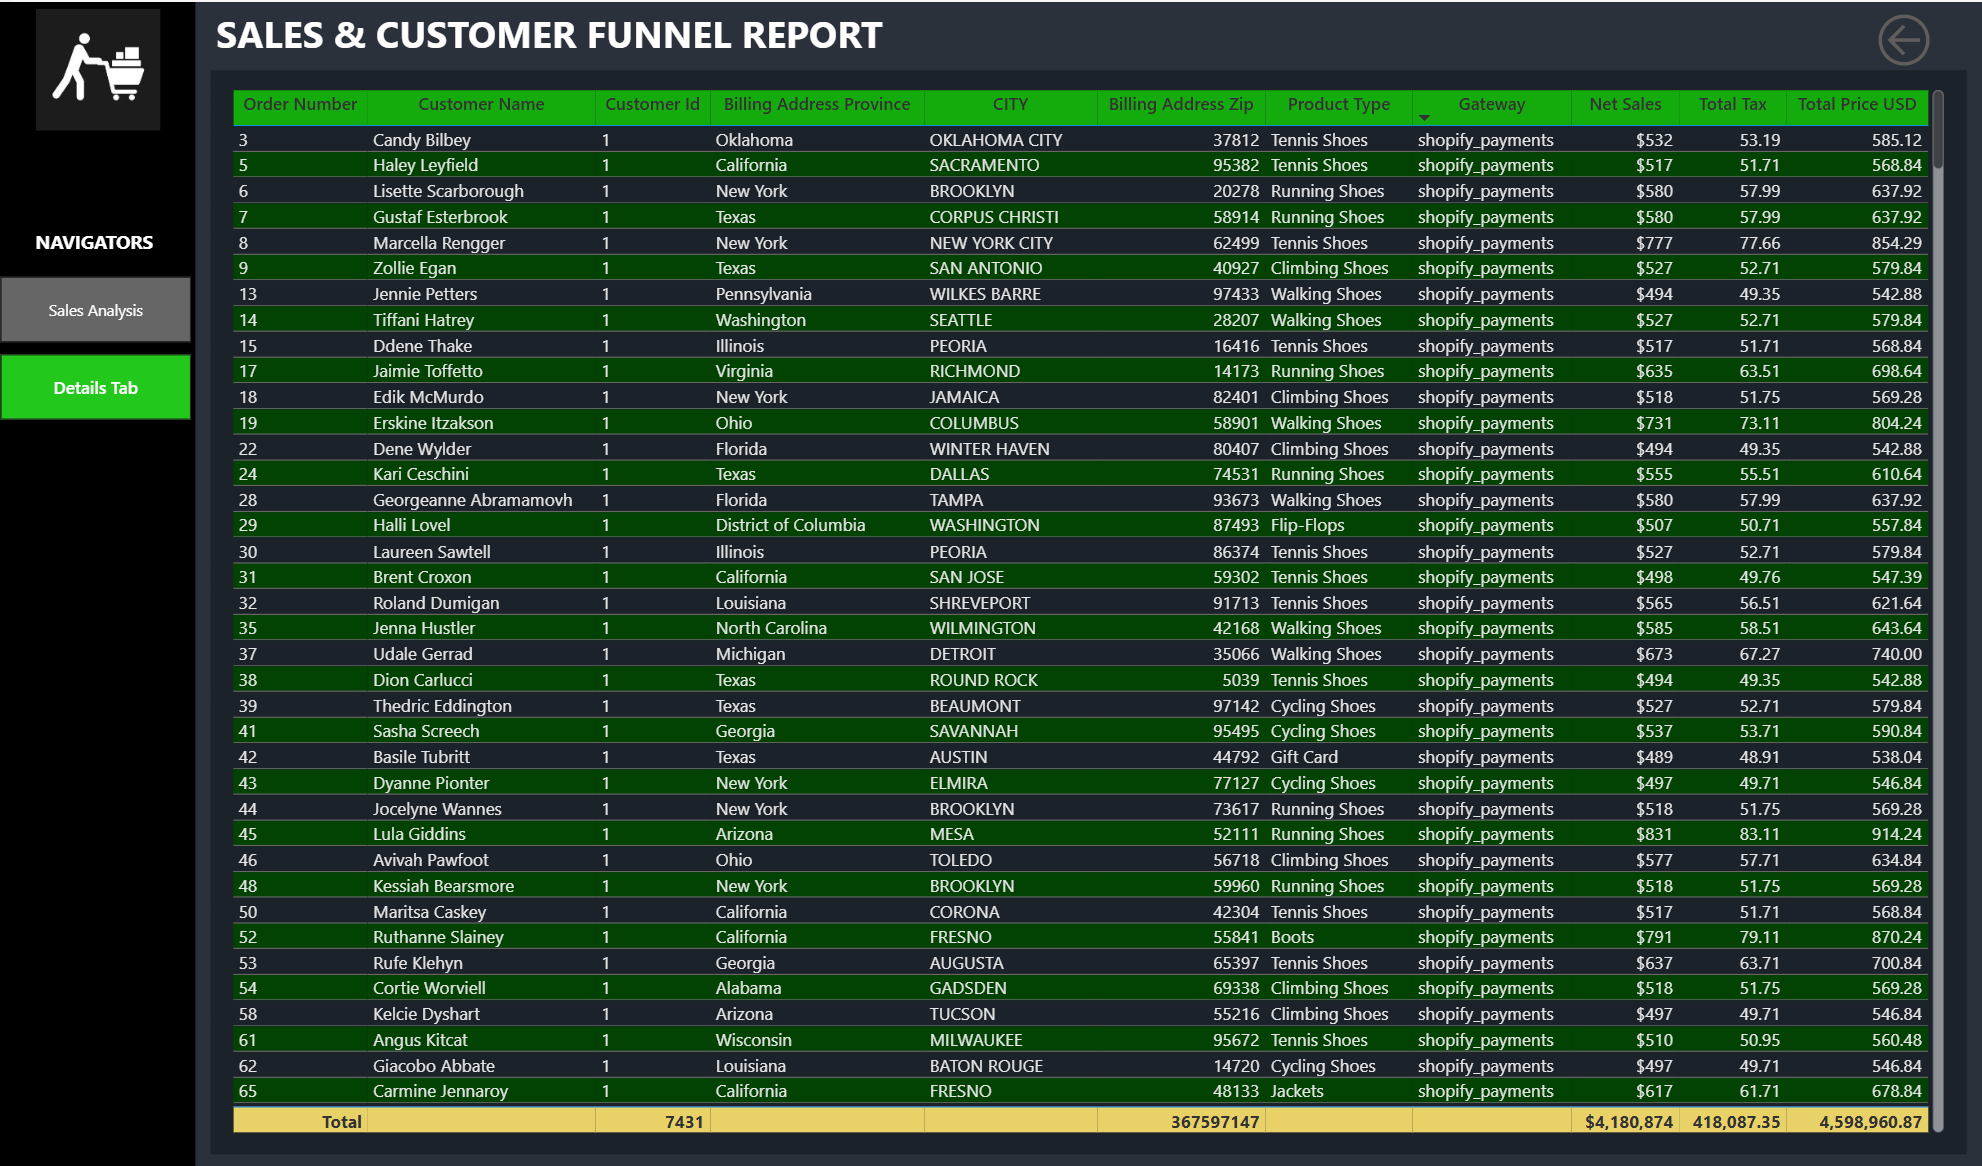

Layout of this report page (visuals, bound fields, positions):
{"tool":"powerbi","page":{"name":"Details Tab","canvas":[1700,1000],"ordinal":1},"visuals":[{"type":"actionButton","box":[1604,5,66.1,56.2],"z":0},{"type":"shape","box":[0,0,169.8,999.5],"z":1000},{"type":"image","box":[29.2,5.5,113.2,104.1],"z":2000},{"type":"textbox","box":[182.6,0,754,56.6],"z":3000},{"type":"shape","box":[182.6,58.4,1502.6,927.5],"z":4000},{"type":"tableEx","fields":{"Values":["shopify_sales.Order Number","shopify_sales.Customer Name","shopify_sales.Customer Id","shopify_sales.Billing Address Province","shopify_sales.CITY","shopify_sales.Billing Address Zip","shopify_sales.Product Type","shopify_sales.Gateway","shopify_sales.Net Sales","shopify_sales.Total Tax","shopify_sales.Total Price Usd"]},"box":[196.1,70,1473.9,901.5],"z":5000},{"type":"pageNavigator","box":[3.3,234.6,163.5,122.2],"z":6000},{"type":"textbox","box":[3.3,188.3,160.2,33],"z":7000}]}

Visuals, with their boxes on the page's 1700x1000 design canvas (x1, y1, x2, y2). These are canvas units, not pixel positions in the 1982x1166 screenshot, which may show the page scaled, cropped or inside an application window:
actionButton: 1604, 5, 1670, 61
shape: 0, 0, 170, 1000
image: 29, 6, 142, 110
textbox: 183, 0, 937, 57
shape: 183, 58, 1685, 986
tableEx - shopify_sales.Order Number x shopify_sales.Customer Name: 196, 70, 1670, 972
pageNavigator: 3, 235, 167, 357
textbox: 3, 188, 164, 221
